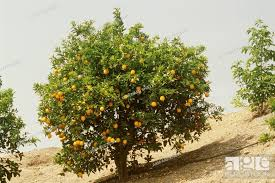orange: (151, 101, 158, 108), (159, 95, 165, 102)
